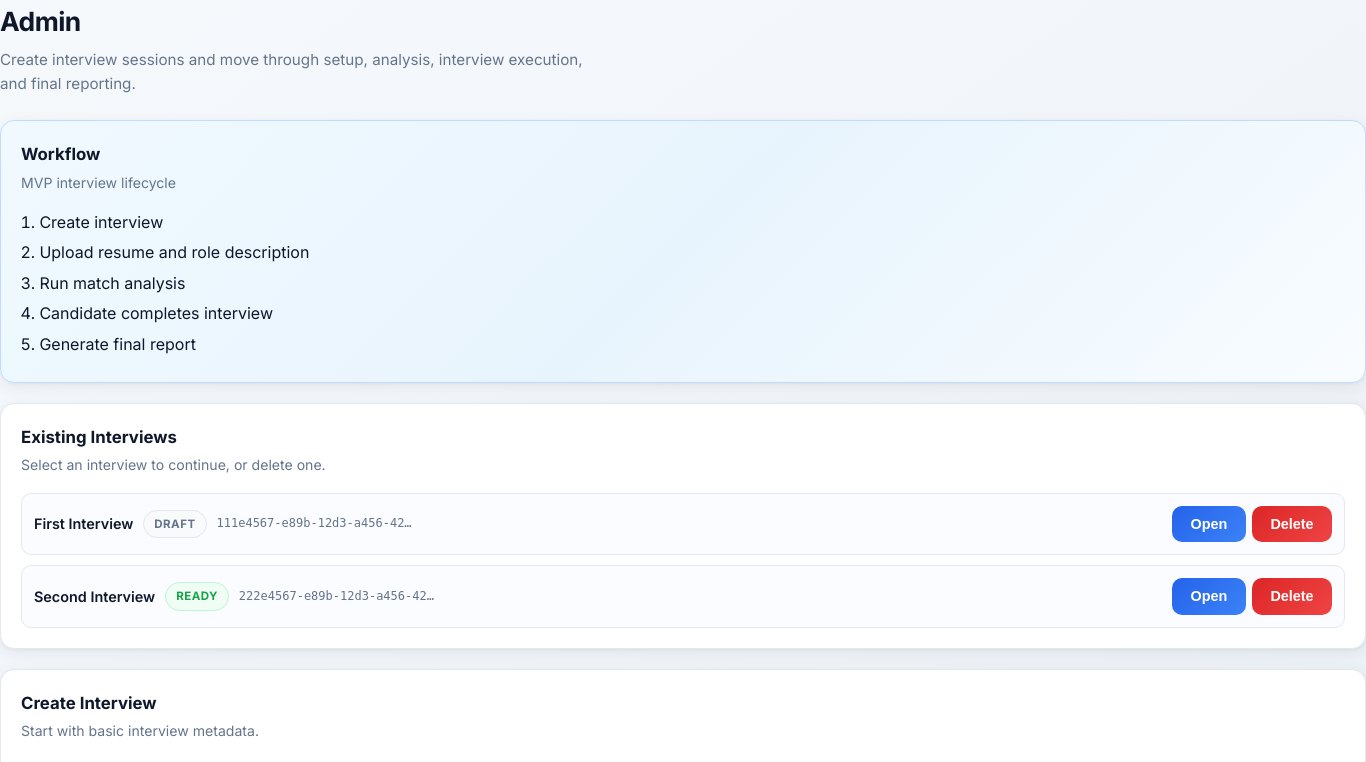
AdminPage › deletes interview after confirmation
The image size is (1366, 762).
Expected: the text "First Interview" is shown, [34,512,133,535]
Click the button "Delete" in the row of "111e4567-e89b-12d3-a456-426614174001" at {"x": 1292, "y": 524}, box [1252,506,1332,542]
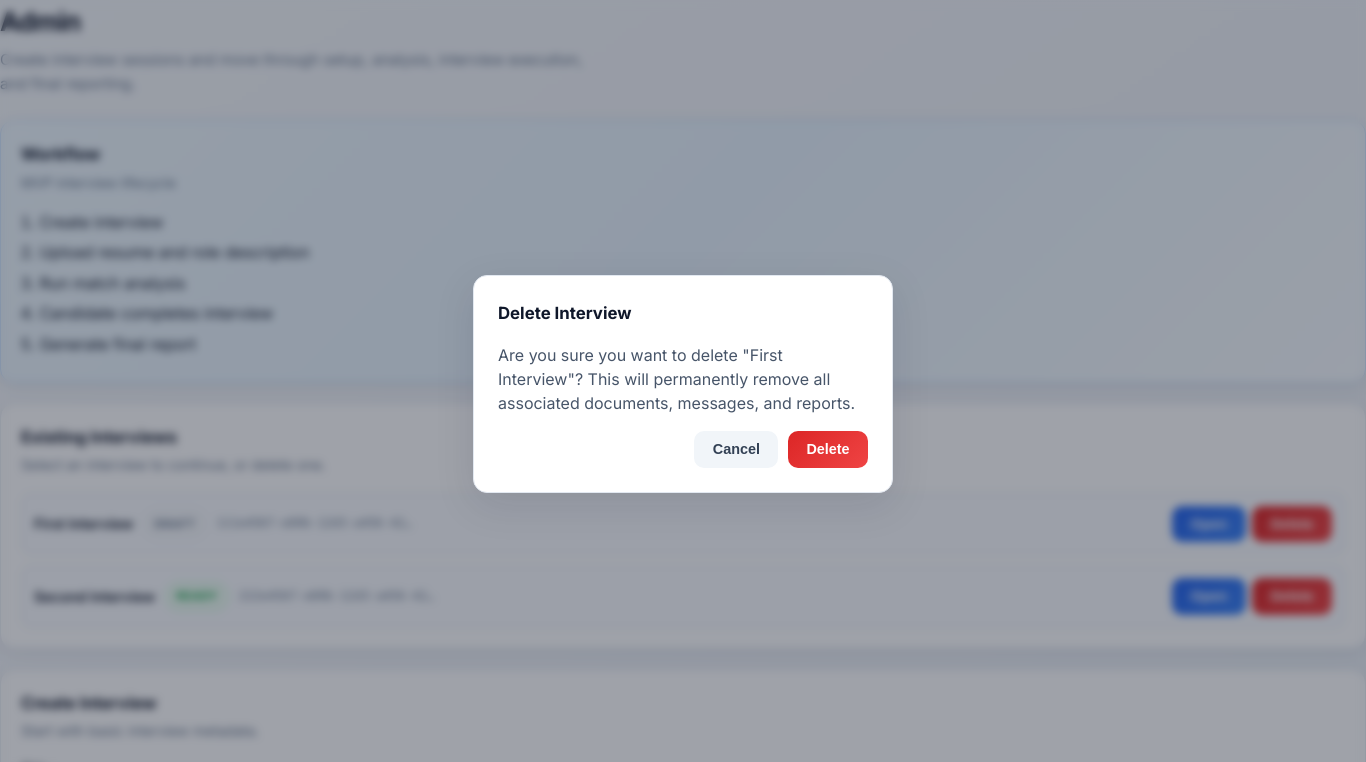
Expected: the dialog is shown, [473,275,893,493]
Click the button "Delete" at {"x": 828, "y": 449}, box [788,431,868,468]
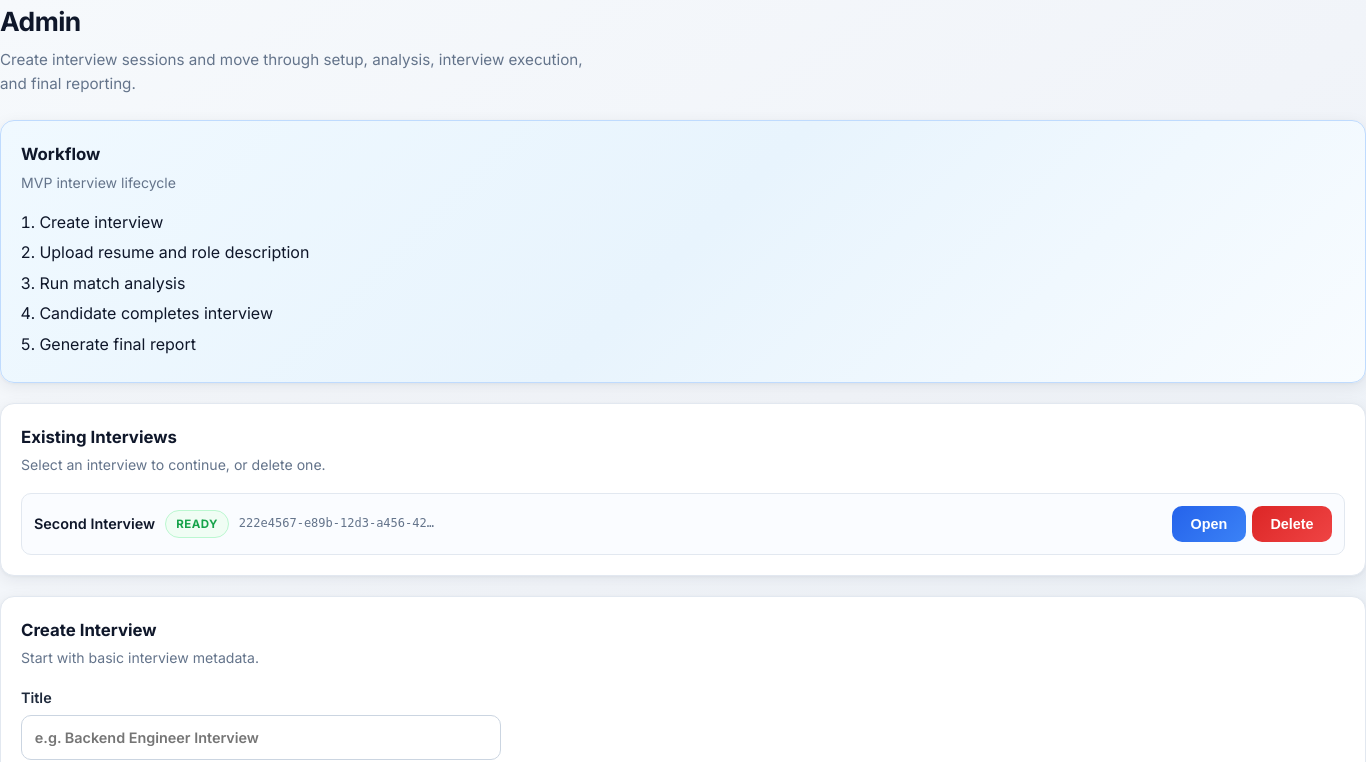
Expected: the text "Second Interview" is shown, [34,512,155,535]
Expected: the text "First Interview" is gone
